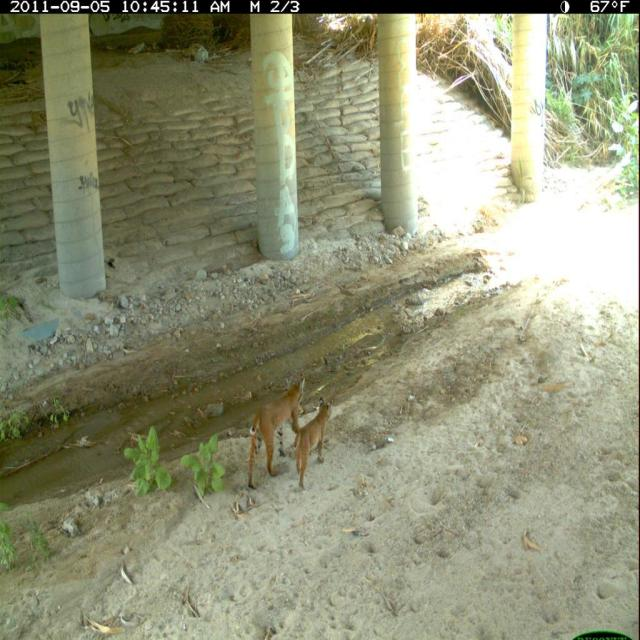bobcat: (245, 374, 308, 495), (290, 395, 336, 496)
